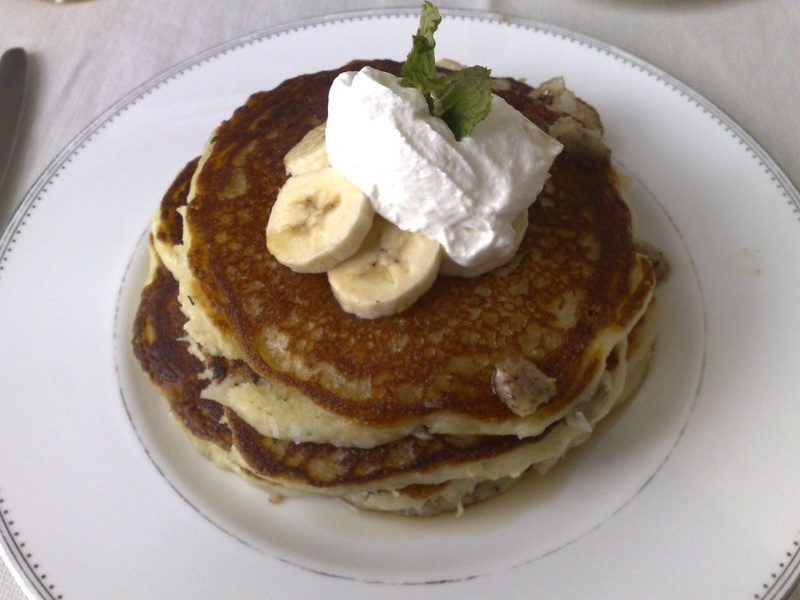banana: (254, 162, 377, 273)
